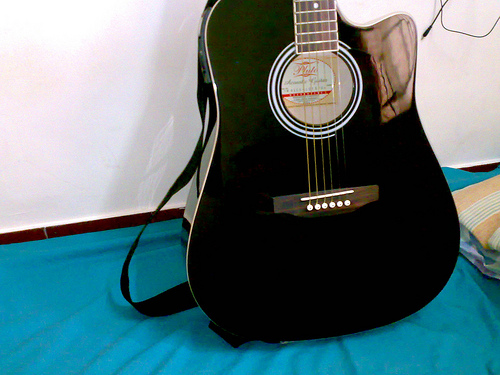guitar: (182, 1, 465, 343)
